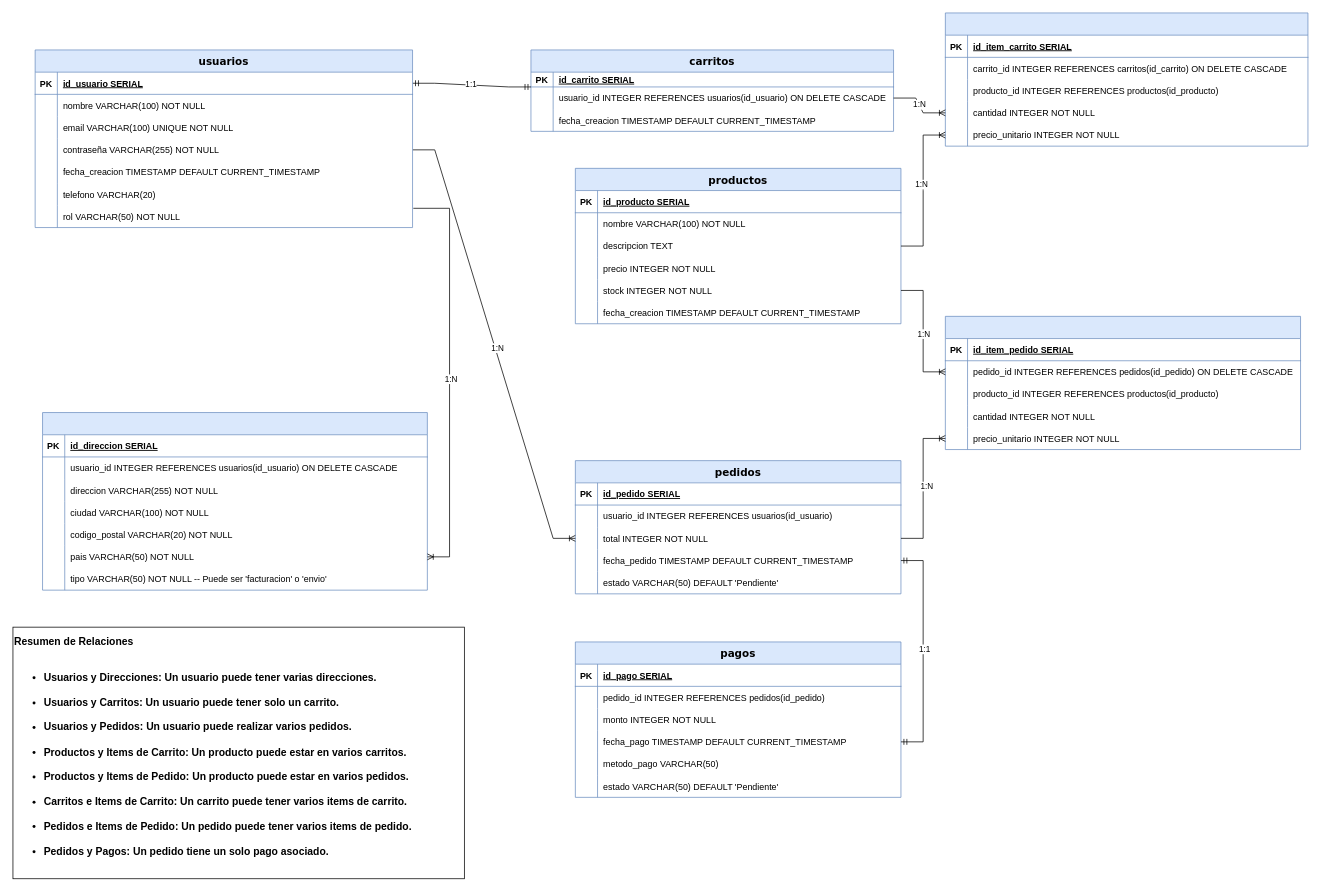
This 1321x893 diagram has some shape labels left out. Each missing label, with the box of its shape:
direcciones: (42, 412, 427, 590)
items_carrito: (945, 12, 1308, 146)
items_pedido: (945, 316, 1301, 450)
